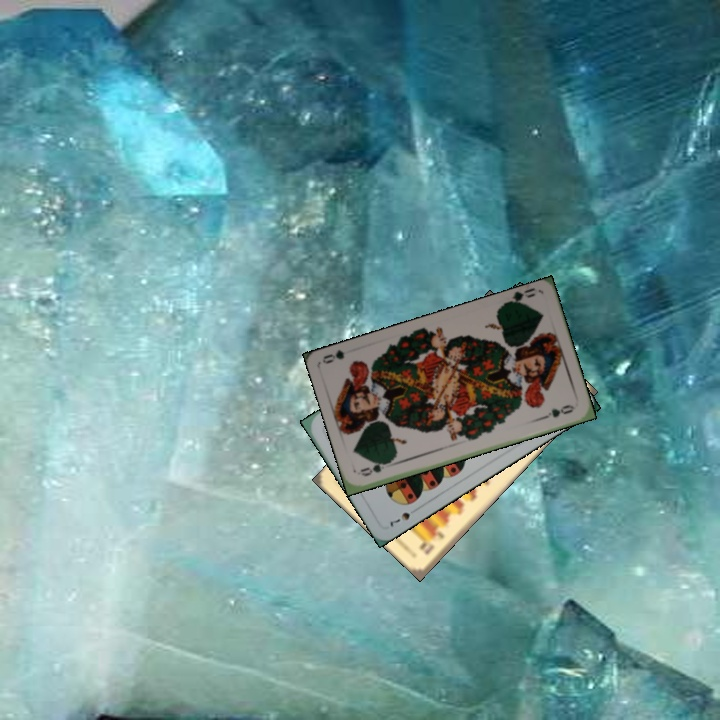E10: (418, 527, 447, 557)
GO: (356, 456, 395, 479), (500, 285, 538, 308)
S7: (386, 508, 413, 530)
